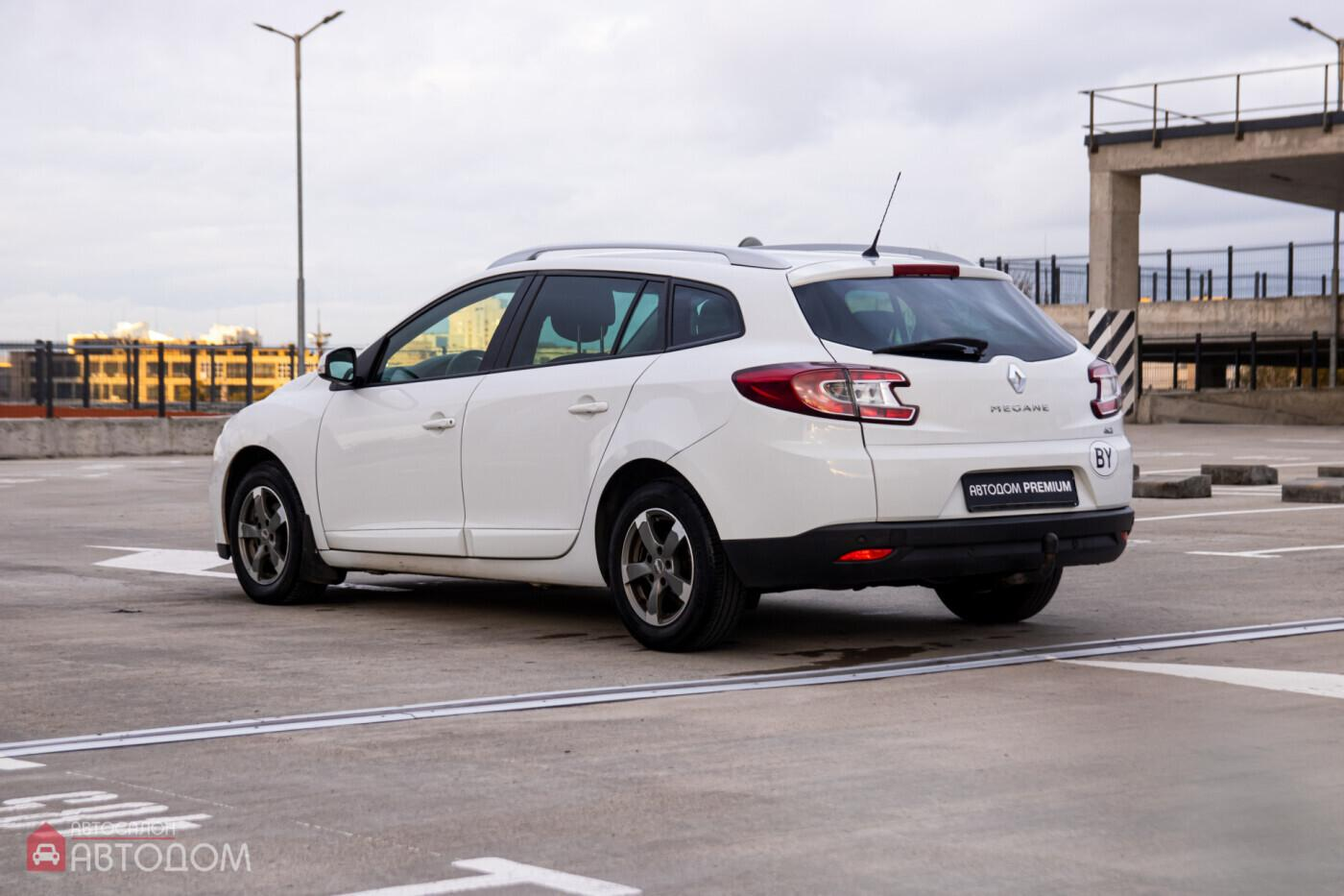Megane_2012-2014: (210, 242, 1136, 652)
